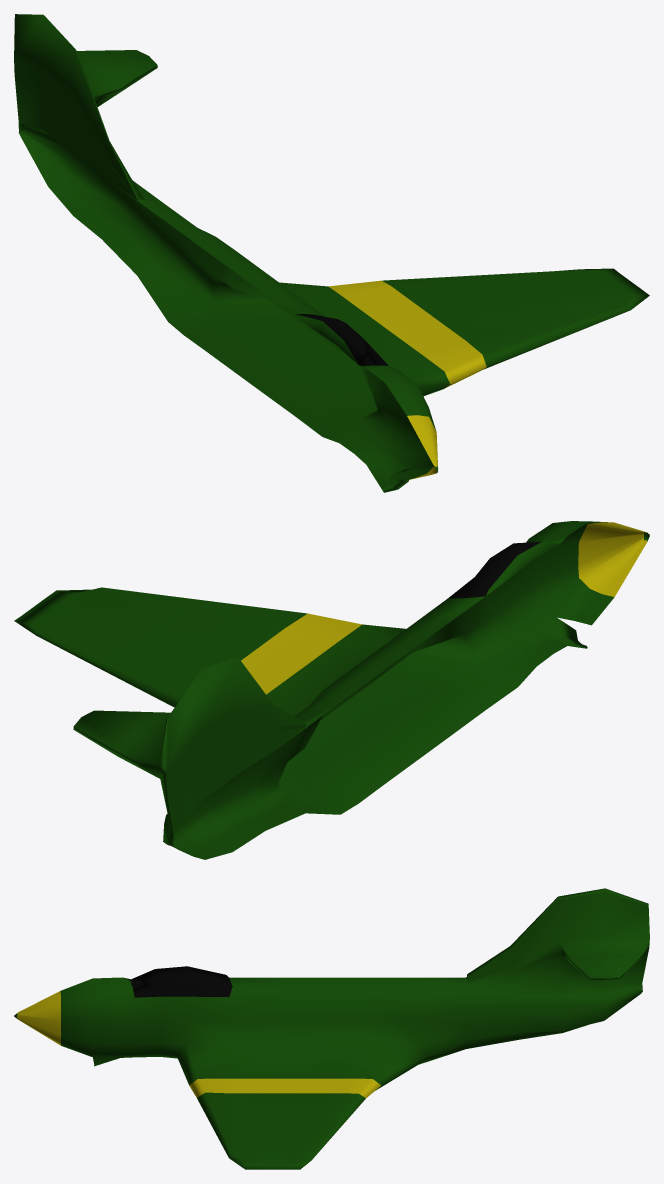
Rendered from avion.glb.
3 renders of one model, top to bottom at view 1: azimuth 30°, elevation 25°; view 2: azimuth 150°, elevation 25°; view 3: azimuth 270°, elevation 25°, orthographic. The views are drawn at different scales.
Visible parts, largest first — view 1: Cube; view 2: Cube; view 3: Cube.
Part boxes in pixels (x1,y1,x2,y2): Cube: (14, 14, 649, 492); Cube: (14, 521, 649, 859); Cube: (14, 888, 649, 1169).
Size of the model in its own units: 8.13 by 4.85 by 16.18.
